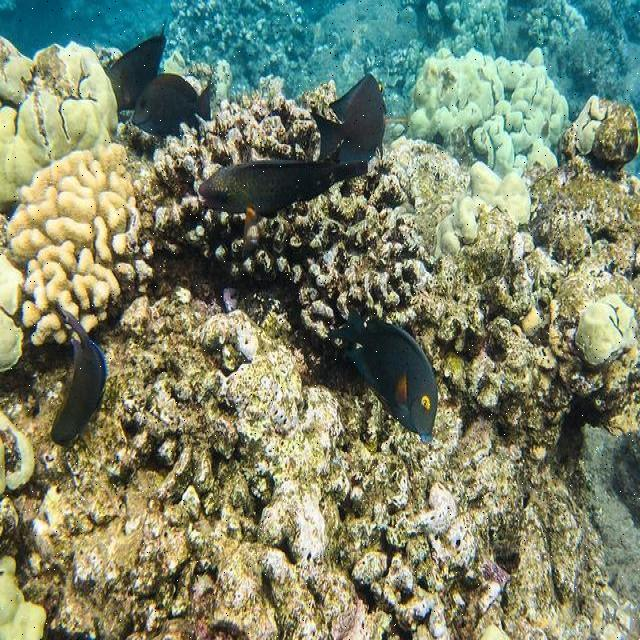fish: (327, 303, 437, 443), (200, 157, 367, 221), (45, 309, 111, 453), (314, 76, 388, 158), (130, 73, 217, 141)
reefs: (0, 34, 140, 351), (405, 39, 574, 245)
